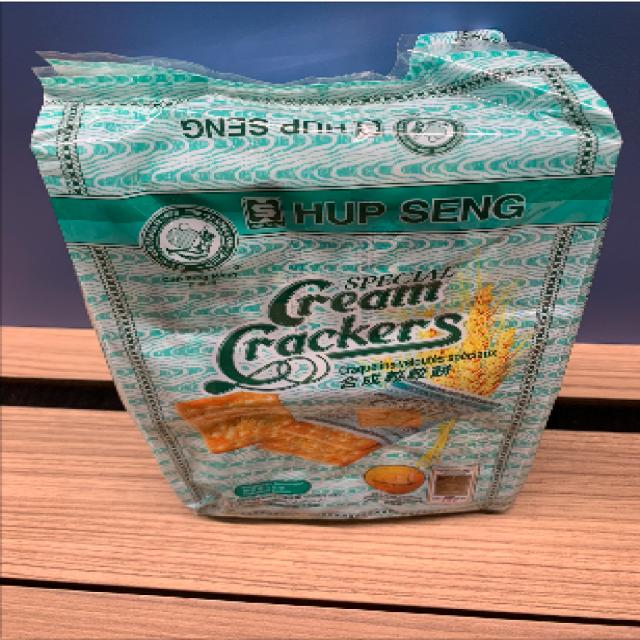object_name: (53, 79, 577, 519)
